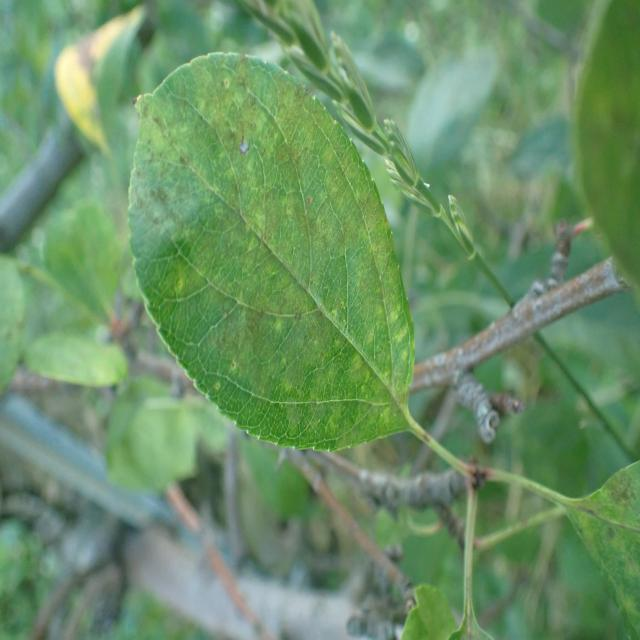scab: (128, 51, 411, 452), (549, 0, 640, 331), (550, 425, 640, 606)
